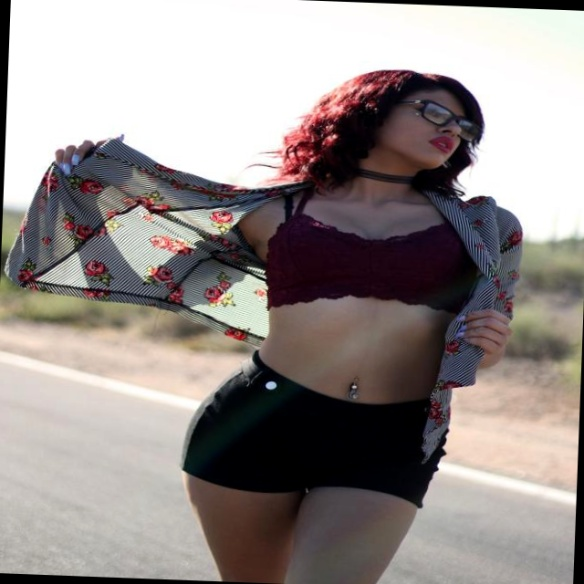Crop_Top: (257, 235, 468, 407)
Shorts: (172, 340, 454, 584)
low_neckline: (261, 188, 482, 302)
